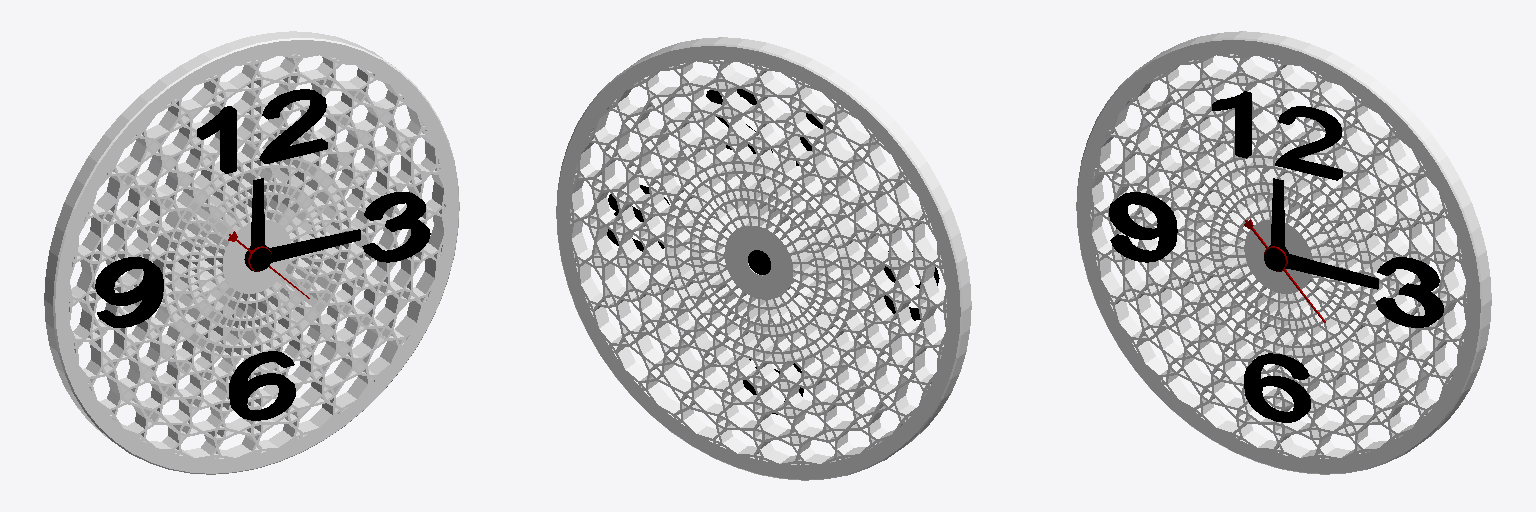
Rendered from clock03_POSER.obj.
3 views of the same model, side by side, from view 1: azimuth 30°, elevation 25°; view 2: azimuth 150°, elevation 25°; view 3: azimuth 330°, elevation 25° (orthographic).
Visible parts, largest first — view 1: clock03, clock03_digits, clock03_bighand, clock03_littlehand; view 2: clock03, clock03_digits; view 3: clock03, clock03_digits, clock03_bighand, clock03_littlehand.
Boxes of the visible parts, box(x1,y1,x2,y2) form: clock03: box(44, 31, 459, 474); clock03_digits: box(95, 89, 430, 420); clock03_bighand: box(246, 229, 360, 271); clock03_littlehand: box(245, 178, 264, 266); clock03: box(556, 37, 971, 480); clock03_digits: box(607, 89, 939, 414); clock03: box(1076, 31, 1491, 474); clock03_digits: box(1109, 91, 1443, 422); clock03_bighand: box(1269, 244, 1378, 289); clock03_littlehand: box(1271, 178, 1288, 252).
Size of the model in its own units: 0.1763 by 0.1763 by 0.0139.